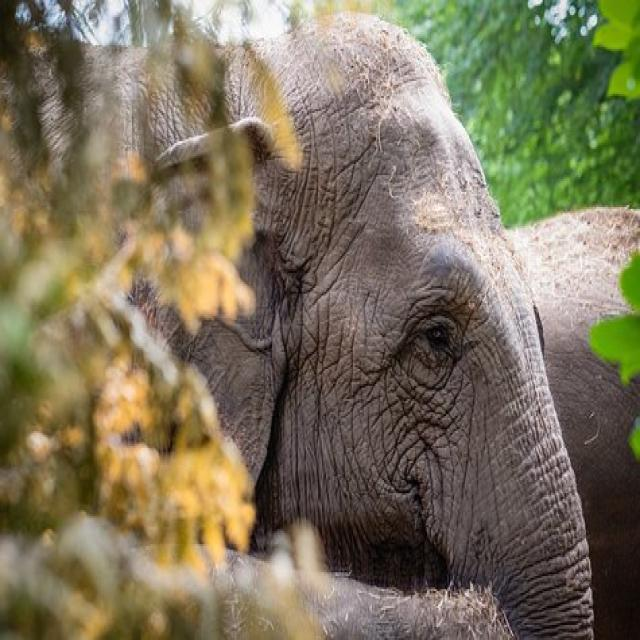Elephant: (28, 12, 602, 640)
